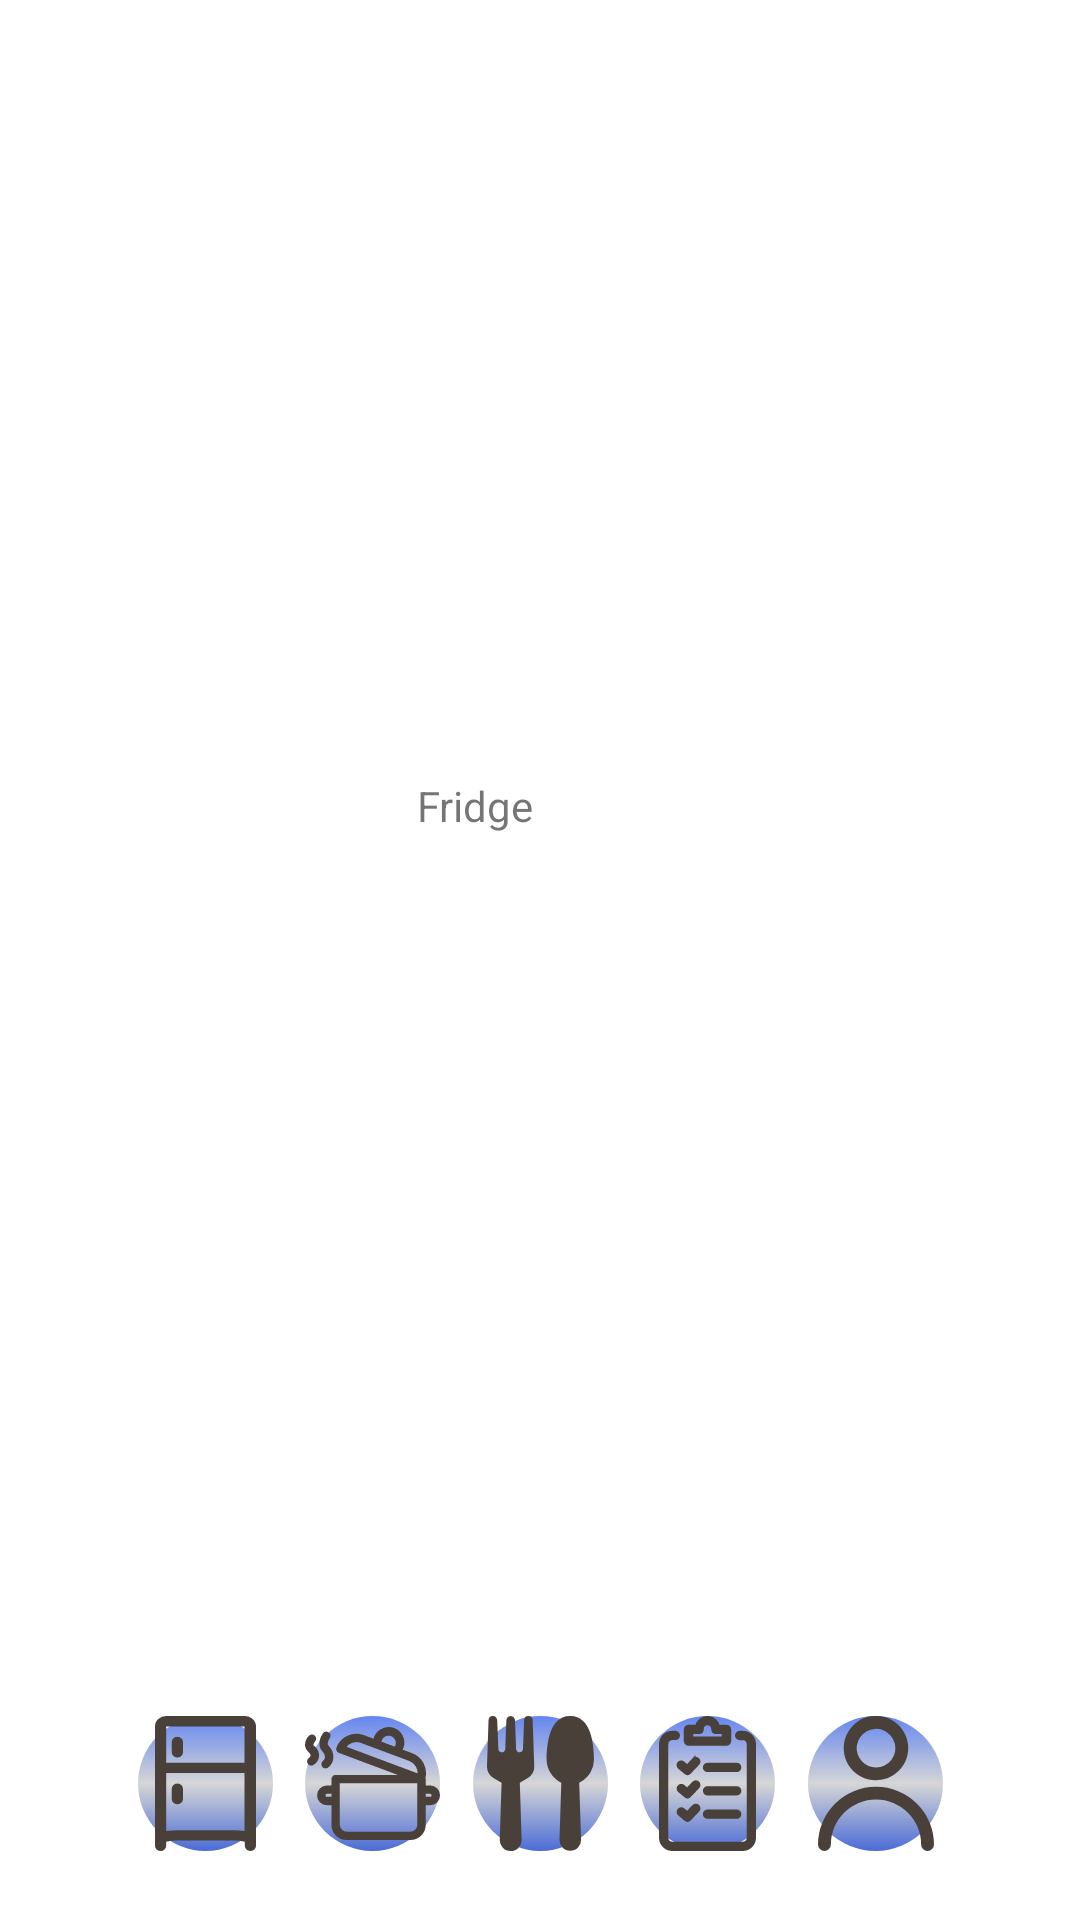

Icon click points for this 1080x1920 phone screenshot, format point (x, y):
checklist: point (707, 1783)
fridge: point (205, 1783)
user info: point (875, 1783)
